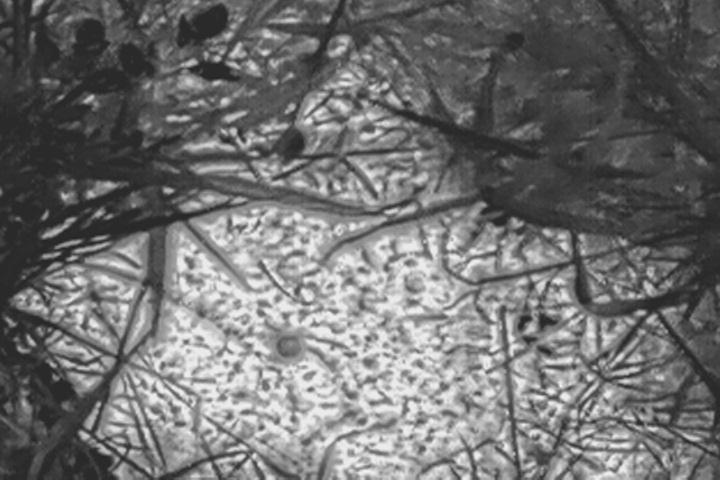landmine: (43, 167, 584, 480)
